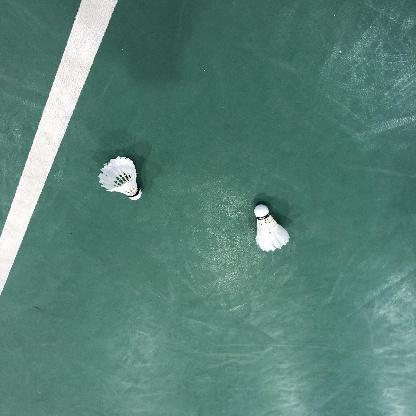ball_single: (98, 156, 142, 200), (254, 204, 290, 252)
